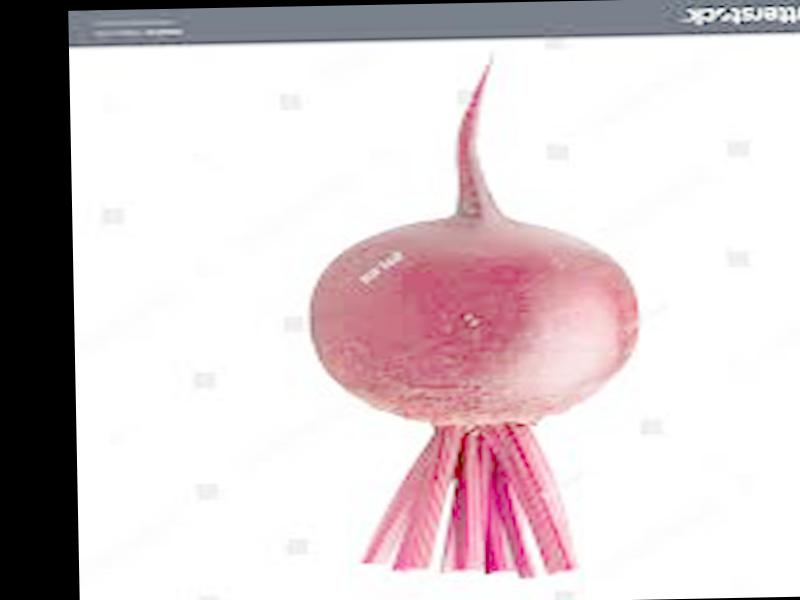Beet: (304, 51, 642, 579)
